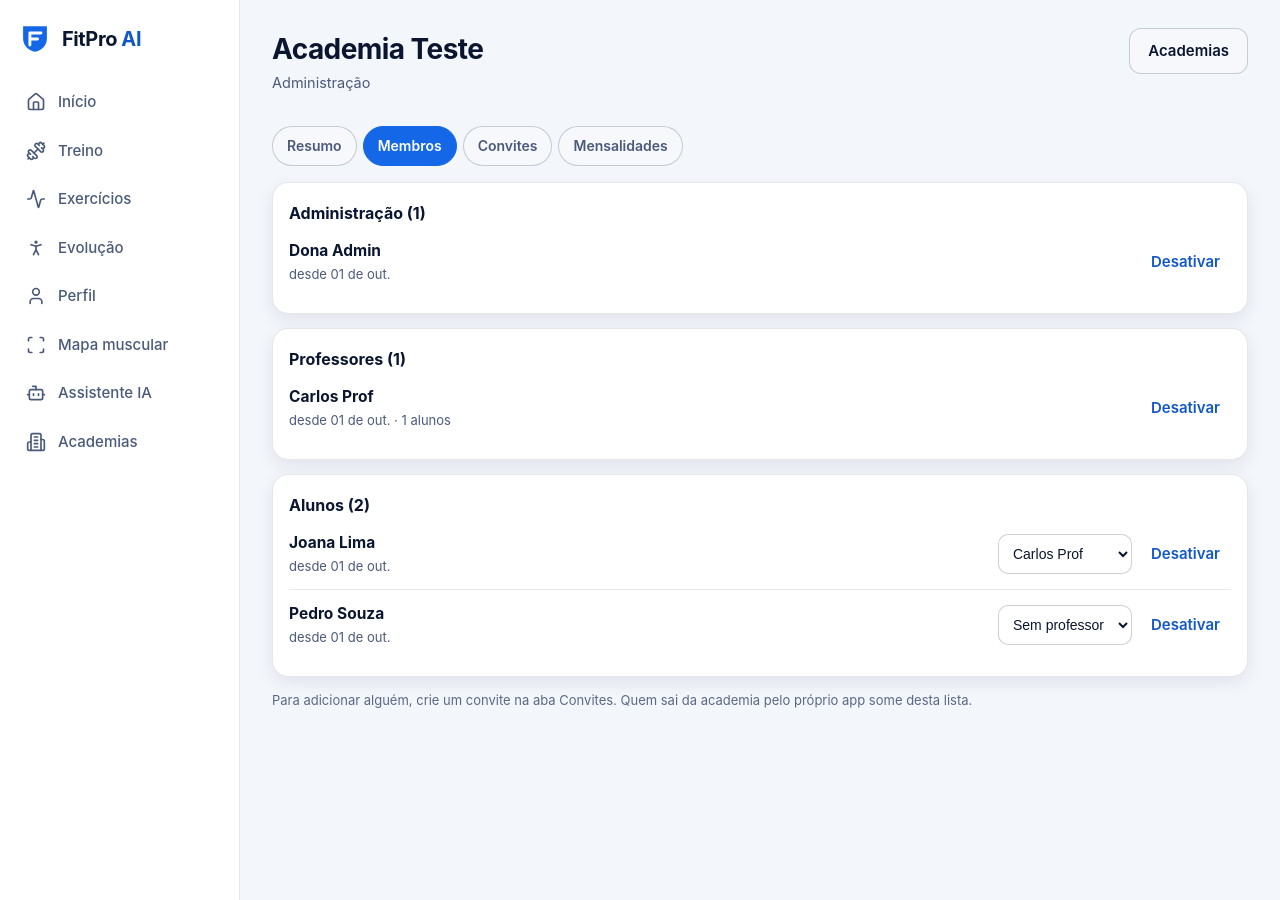
it: academias e painéis › gestão (admin) › troca o professor de um aluno e desativa com confirmação
Select "Carlos Prof" in the dropdown named "Professor de Pedro Souza" in the row of "Pedro Souza" at (1065, 625), box [998,605,1132,645]
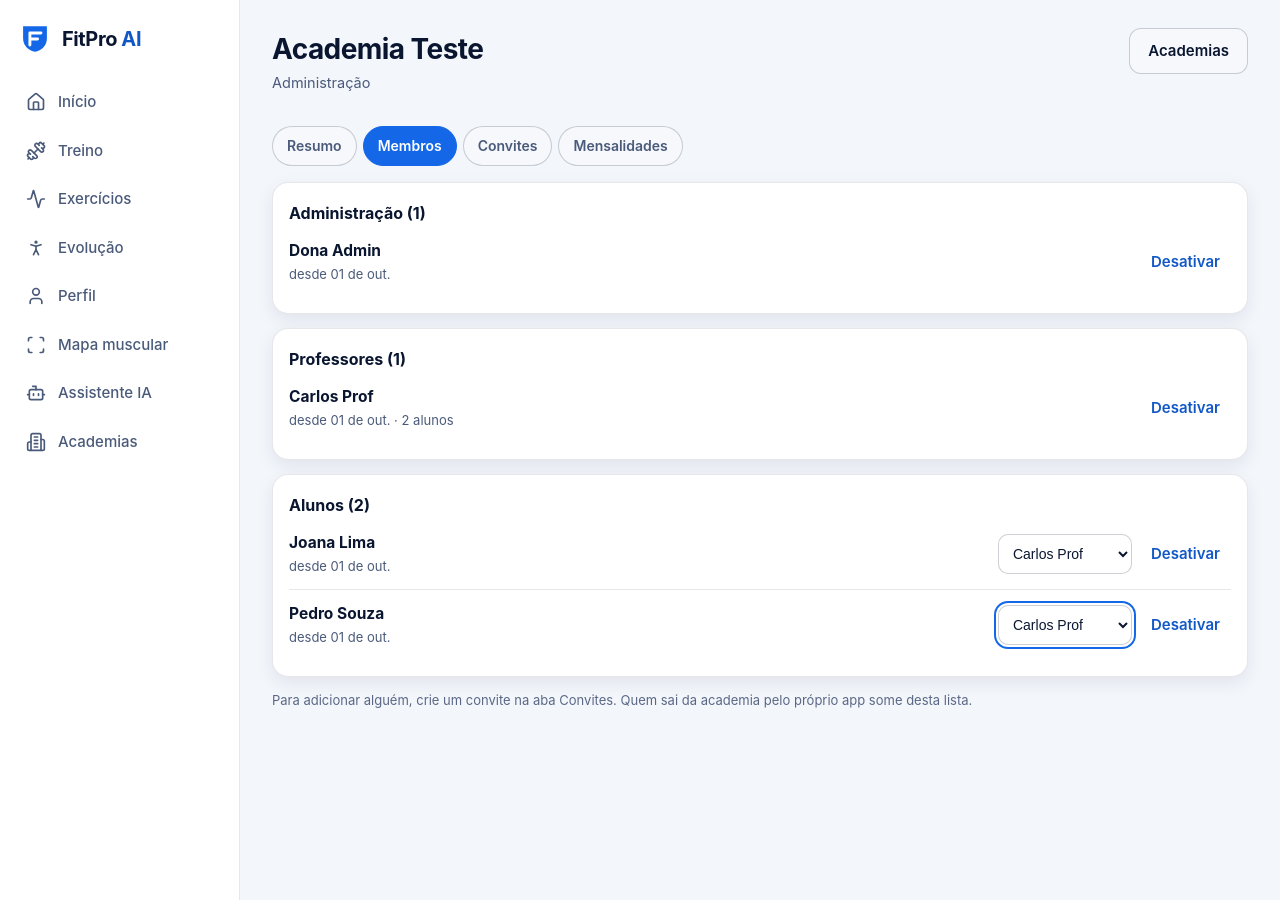
Click the button with aria-label "Desativar Carlos Prof" at (1186, 408), box [1140,385,1231,431]
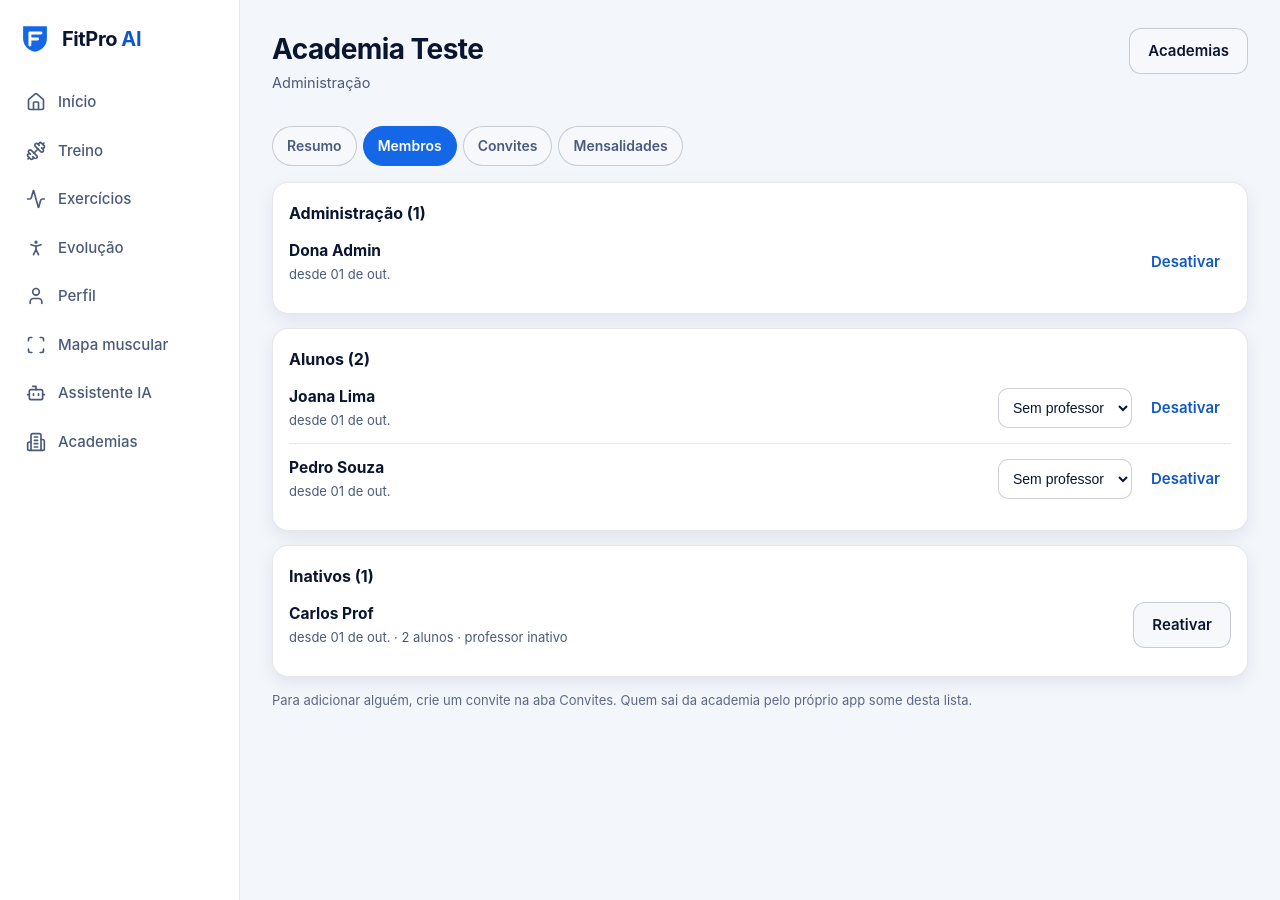
Result: the button with aria-label "Reativar Carlos Prof" is shown at [1133,602,1231,648]
